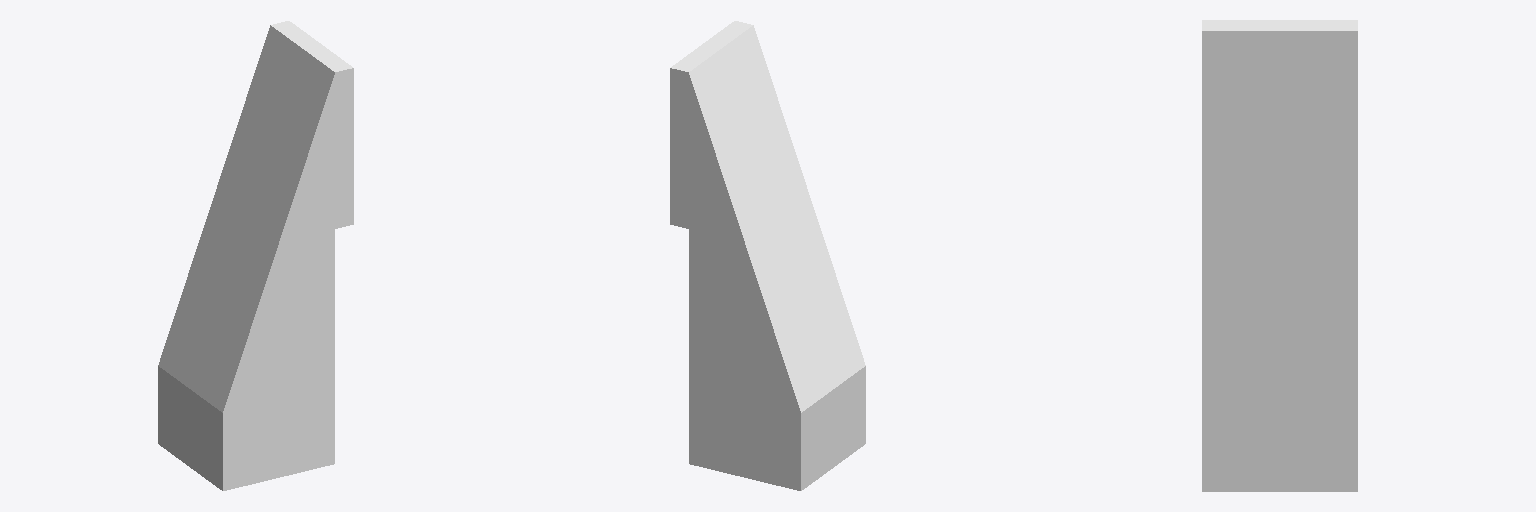
The robot description file, URDF, robot "finger":
<?xml version="1.0" encoding="utf-8"?>
<!-- This URDF was automatically created by SolidWorks to URDF Exporter! Originally created by [author] ([email redacted]) 
     Commit Version: 1.5.1-0-g916b5db  Build Version: 1.5.7152.31018
     For more information, please see http://wiki.ros.org/sw_urdf_exporter -->
<robot
  name="finger">
  <link
    name="base_link">
    <inertial>
      <origin
        xyz="0.0014547 -4.3368E-18 0.030405"
        rpy="0 0 0" />
      <mass
        value="0.21168" />
      <inertia
        ixx="0.00023035"
        ixy="-3.7311E-21"
        ixz="-3.4957E-05"
        iyy="0.00033399"
        iyz="-1.4134E-20"
        izz="0.00025833" />
    </inertial>
    <visual>
      <origin
        xyz="0 0 0"
        rpy="0 0 0" />
      <geometry>
        <mesh
          filename="package://finger/meshes/base_link.STL" />
      </geometry>
      <material
        name="">
        <color
          rgba="1 1 1 1" />
      </material>
    </visual>
    <collision>
      <origin
        xyz="0 0 0"
        rpy="0 0 0" />
      <geometry>
        <mesh
          filename="package://finger/meshes/base_link.STL" />
      </geometry>
    </collision>
  </link>
  <link
    name="finger_Link2">
    <inertial>
      <origin
        xyz="-0.01025 6.9389E-18 0.064"
        rpy="0 0 0" />
      <mass
        value="0.06" />
      <inertia
        ixx="4.604E-05"
        ixy="-1.175E-21"
        ixz="-8.085E-06"
        iyy="4.6086E-05"
        iyz="-4.3195E-21"
        izz="9.0463E-06" />
    </inertial>
    <visual>
      <origin
        xyz="0 0 0"
        rpy="0 0 0" />
      <geometry>
        <mesh
          filename="package://finger/meshes/finger_Link2.STL" />
      </geometry>
      <material
        name="">
        <color
          rgba="1 1 1 1" />
      </material>
    </visual>
    <collision>
      <origin
        xyz="0 0 0"
        rpy="0 0 0" />
      <geometry>
        <mesh
          filename="package://finger/meshes/finger_Link2.STL" />
      </geometry>
    </collision>
  </link>
  <joint
    name="finger_joint"
    type="prismatic">
    <origin
      xyz="0 0 0"
      rpy="0 0 0" />
    <parent
      link="base_link" />
    <child
      link="finger_Link2" />
    <axis
      xyz="-1 0 0" />
    <limit
      lower="-1"
      upper="1"
      effort="5"
      velocity="9" />
  </joint>
</robot>

--- What the picture shows (computed from the rendered views, not written in the file) ---
Views: 3 orthographic renders of the robot side by side, from view 1: azimuth 30°, elevation 25°; view 2: azimuth 150°, elevation 25°; view 3: azimuth 270°, elevation 25°.
Robot: finger — 2 links, 1 joints (1 prismatic); root link base_link; default pose: all joints at 0.
Visible links, largest first — view 1: finger_Link2; view 2: finger_Link2; view 3: finger_Link2.
Boxes of the visible links, x1,y1,x2,y2 form: finger_Link2: (158, 21, 353, 490); finger_Link2: (670, 21, 865, 490); finger_Link2: (1202, 20, 1357, 491).
Bounding box of the posed robot: 0.035 × 0.03 × 0.1 m (x, y, z).
Meshes: 2 distinct files referenced, 1 mesh visuals loaded (1 binary STL); not drawn: 1 (reference not matched to a file when rendering).